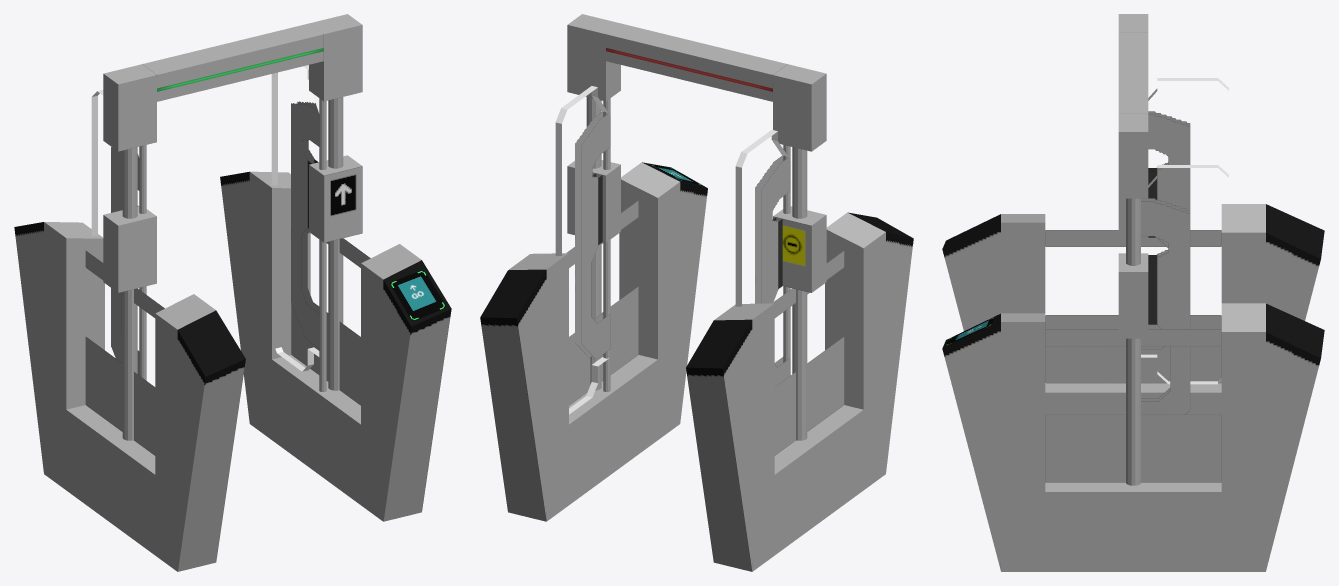
Rendered from nyc_subway_fare_gate_6_entrance_open.obj.
The picture shows the model from 3 angles, left to right: view 1: azimuth 30°, elevation 25°; view 2: azimuth 150°, elevation 25°; view 3: azimuth 270°, elevation 25°; orthographic projection.
Parts seen in each view (by area): view 1: cube, left, right; view 2: cube, left, right; view 3: cube, right, left.
Boxes of the visible parts, x1=… form: cube: x1=14, y1=48, x2=451, y2=571; left: x1=66, y1=14, x2=362, y2=555; right: x1=122, y1=97, x2=370, y2=504; cube: x1=480, y1=48, x2=913, y2=571; left: x1=567, y1=14, x2=863, y2=555; right: x1=566, y1=97, x2=807, y2=504; cube: x1=942, y1=78, x2=1324, y2=571; right: x1=1045, y1=198, x2=1221, y2=571; left: x1=1045, y1=14, x2=1221, y2=414.
Size of the model in its own units: 1.19 by 2.06 by 1.62.
Materials: 1 (1 with a texture image).
